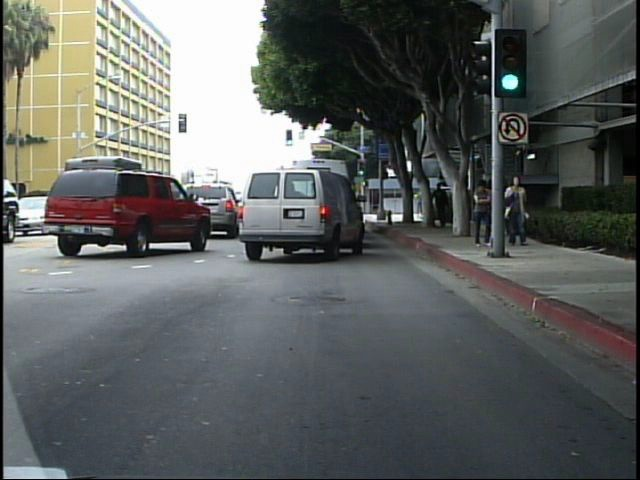person: (504, 170, 534, 255), (480, 174, 504, 249), (501, 172, 523, 244), (472, 174, 492, 247), (431, 176, 453, 231), (412, 185, 424, 217)
